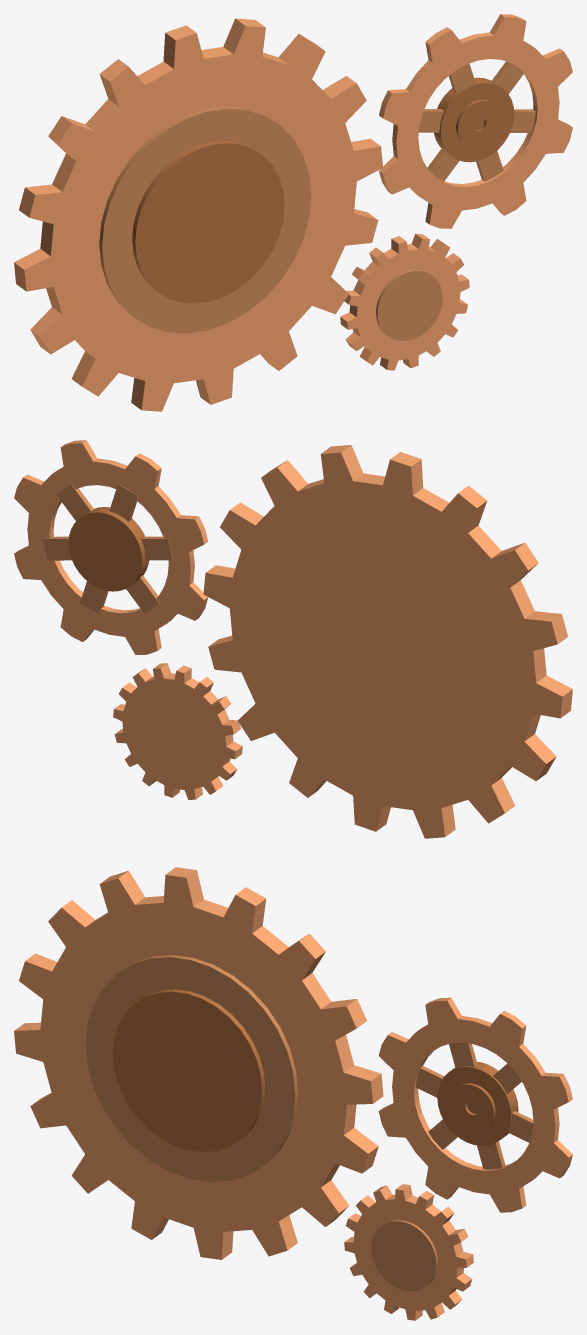
File: gears.fbx
The picture shows the model from 3 angles, top to bottom: view 1: azimuth 30°, elevation 25°; view 2: azimuth 150°, elevation 25°; view 3: azimuth 330°, elevation 25°; orthographic projection.
Parts seen in each view (by area): view 1: Cylinder.008; view 2: Cylinder.008; view 3: Cylinder.008.
Boxes of the visible parts, bbox=[...] form: Cylinder.008: bbox=[14, 14, 572, 411]; Cylinder.008: bbox=[14, 440, 572, 838]; Cylinder.008: bbox=[14, 867, 572, 1320].
Bounding box in the file's own units: 5.75 × 3.9 × 0.3062.
